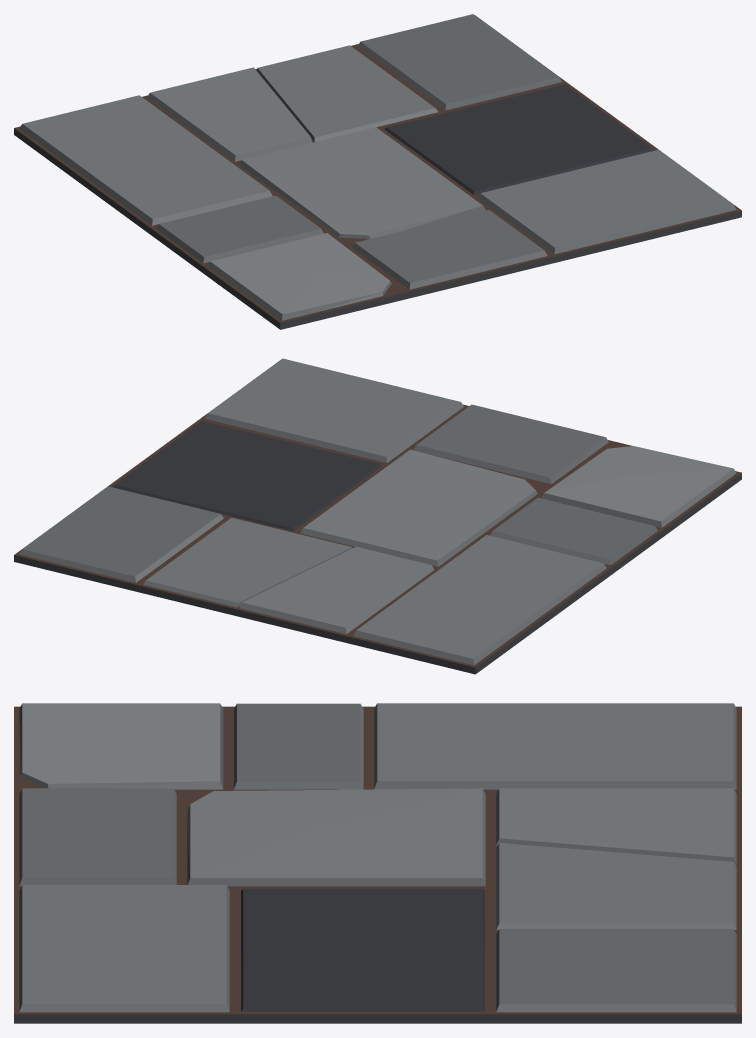
The model's file is flagstone-floor-tile-2a04ea.glb.
The picture shows the model from 3 angles, top to bottom: view 1: azimuth 30°, elevation 25°; view 2: azimuth 150°, elevation 25°; view 3: azimuth 270°, elevation 25°; orthographic projection. The views are drawn at different scales.
Parts seen in each view (by area): view 1: flagstone-floor-tile; view 2: flagstone-floor-tile; view 3: flagstone-floor-tile.
Boxes of the visible parts, x1,y1,x2,y2 form: flagstone-floor-tile: [14, 14, 741, 329]; flagstone-floor-tile: [14, 358, 741, 674]; flagstone-floor-tile: [14, 703, 741, 1023].
Bounding box in the file's own units: 2 × 0.05 × 2.
